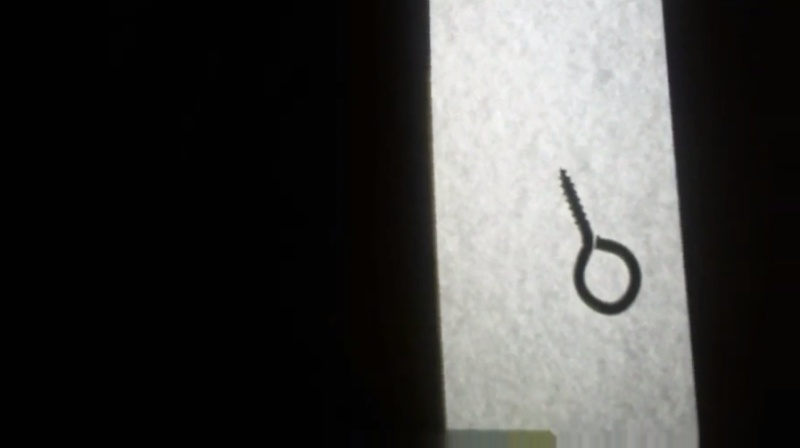O001: (556, 165, 646, 319)
